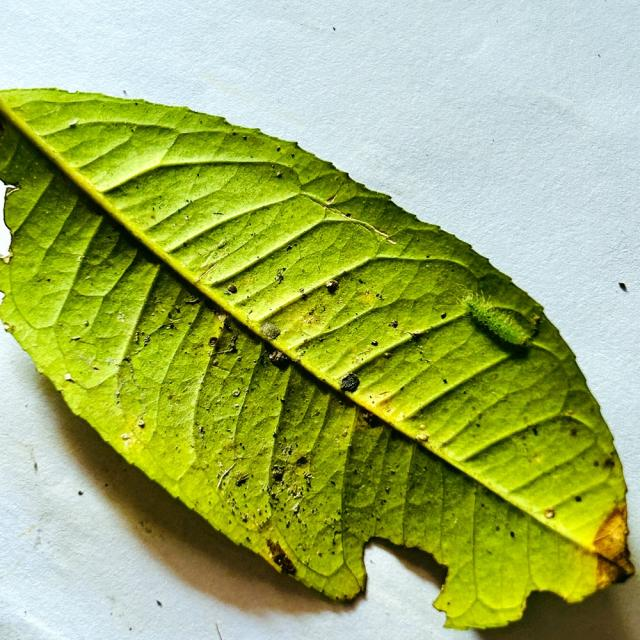Deficiency Leaf: (352, 539, 479, 639)
Lemon: (0, 89, 632, 628)
